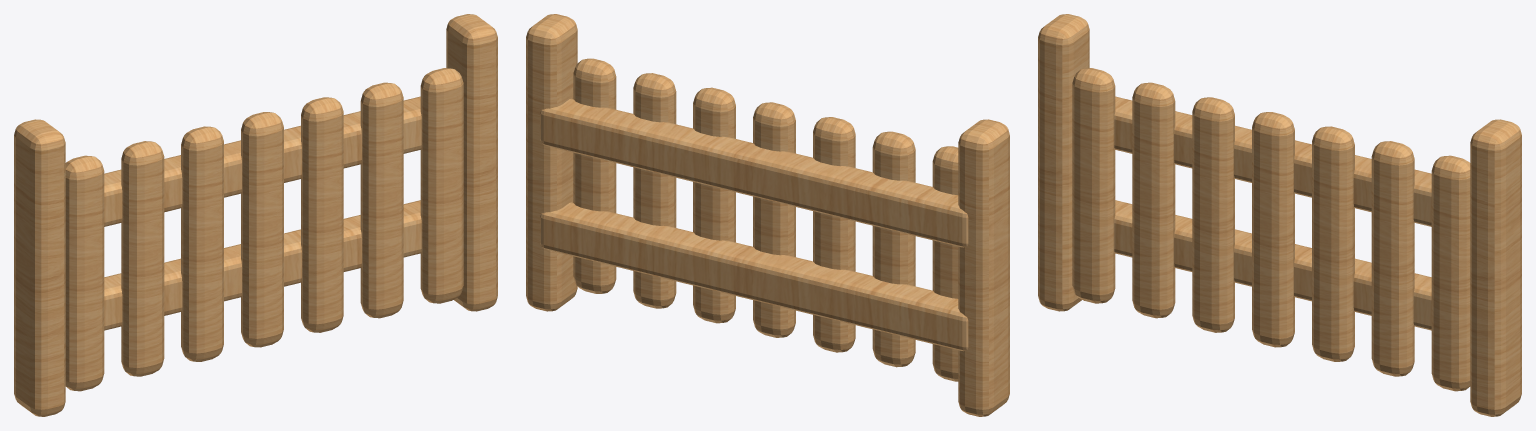
The model's file is fence.glb.
3 renders of one model, left to right at view 1: azimuth 30°, elevation 25°; view 2: azimuth 150°, elevation 25°; view 3: azimuth 330°, elevation 25°, orthographic.
Visible parts, largest first — view 1: Fence post, Fence post.001, Rounded picket.001, Rounded picket.006, Rounded picket.005, Rounded picket.004, Rounded picket.003, Rounded picket.002, Rounded picket, Fence rail, Fence rail.001; view 2: Fence rail.001, Fence rail, Fence post, Fence post.001, Rounded picket.006, Rounded picket.001, Rounded picket.005, Rounded picket.003, Rounded picket.002, Rounded picket.004, Rounded picket; view 3: Fence post.001, Fence post, Rounded picket.005, Rounded picket, Rounded picket.001, Rounded picket.002, Rounded picket.003, Rounded picket.004, Rounded picket.006, Fence rail, Fence rail.001.
Part boxes in pixels (left/top/right/bottom): Fence post: left=14, top=119, right=65, bottom=416; Fence post.001: left=446, top=14, right=497, bottom=311; Rounded picket.001: left=121, top=141, right=164, bottom=376; Rounded picket.006: left=420, top=68, right=463, bottom=303; Rounded picket.005: left=360, top=82, right=403, bottom=318; Rounded picket.004: left=301, top=97, right=343, bottom=332; Rounded picket.003: left=241, top=112, right=283, bottom=347; Rounded picket.002: left=181, top=126, right=223, bottom=361; Rounded picket: left=65, top=155, right=104, bottom=391; Fence rail: left=104, top=200, right=421, bottom=330; Fence rail.001: left=104, top=96, right=421, bottom=226; Fence rail.001: left=540, top=98, right=968, bottom=247; Fence rail: left=540, top=202, right=968, bottom=351; Fence post: left=958, top=119, right=1009, bottom=416; Fence post.001: left=526, top=14, right=577, bottom=311; Rounded picket.006: left=573, top=58, right=616, bottom=293; Rounded picket.001: left=872, top=131, right=915, bottom=367; Rounded picket.005: left=633, top=73, right=676, bottom=308; Rounded picket.003: left=753, top=102, right=795, bottom=337; Rounded picket.002: left=813, top=117, right=855, bottom=352; Rounded picket.004: left=693, top=87, right=735, bottom=323; Rounded picket: left=932, top=146, right=958, bottom=381; Fence post.001: left=1470, top=119, right=1521, bottom=416; Fence post: left=1038, top=14, right=1089, bottom=311; Rounded picket.005: left=1371, top=141, right=1414, bottom=376; Rounded picket: left=1072, top=68, right=1115, bottom=303; Rounded picket.001: left=1132, top=82, right=1175, bottom=318; Rounded picket.002: left=1192, top=97, right=1234, bottom=332; Rounded picket.003: left=1252, top=112, right=1294, bottom=347; Rounded picket.004: left=1312, top=126, right=1354, bottom=361; Rounded picket.006: left=1431, top=155, right=1470, bottom=391; Fence rail: left=1114, top=200, right=1431, bottom=330; Fence rail.001: left=1114, top=96, right=1431, bottom=226.
Size of the model in its own units: 1.03 by 0.6 by 0.1125.
1 material, 1 textured.
